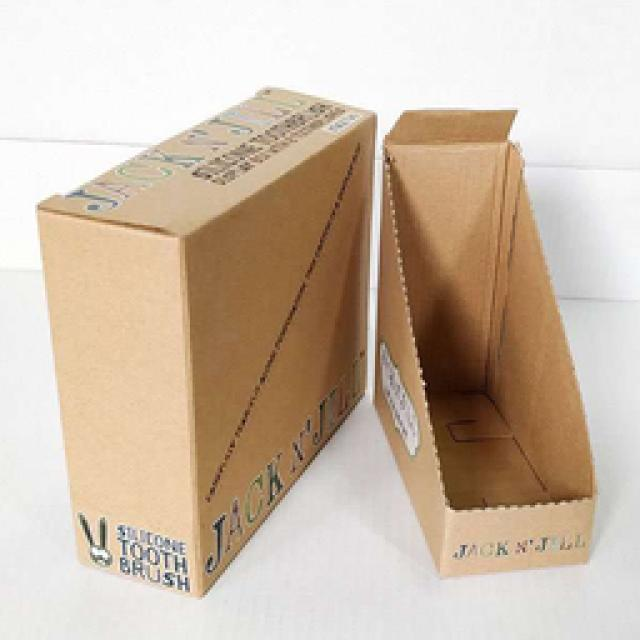cardboard: (38, 88, 372, 595), (375, 110, 590, 572)
